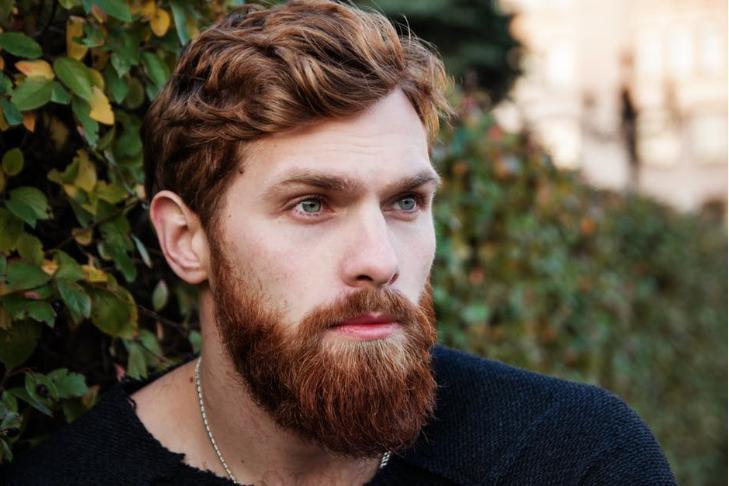face: (214, 85, 429, 405)
